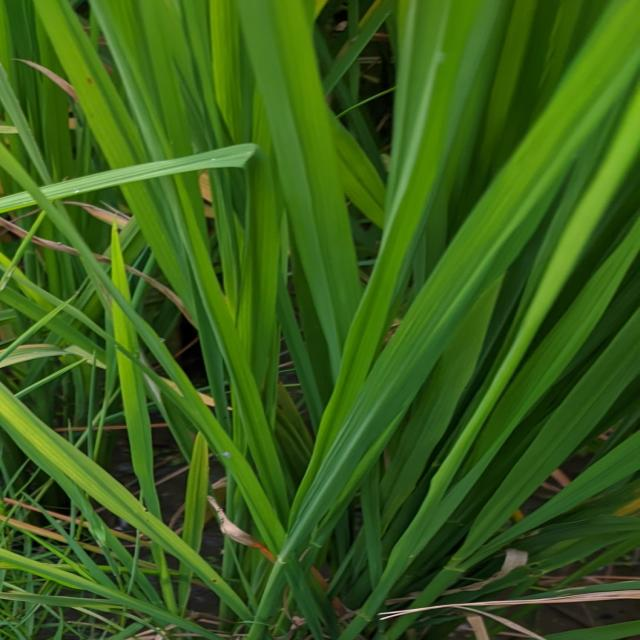HealthyLeaf: (128, 7, 299, 134), (260, 160, 336, 244)
